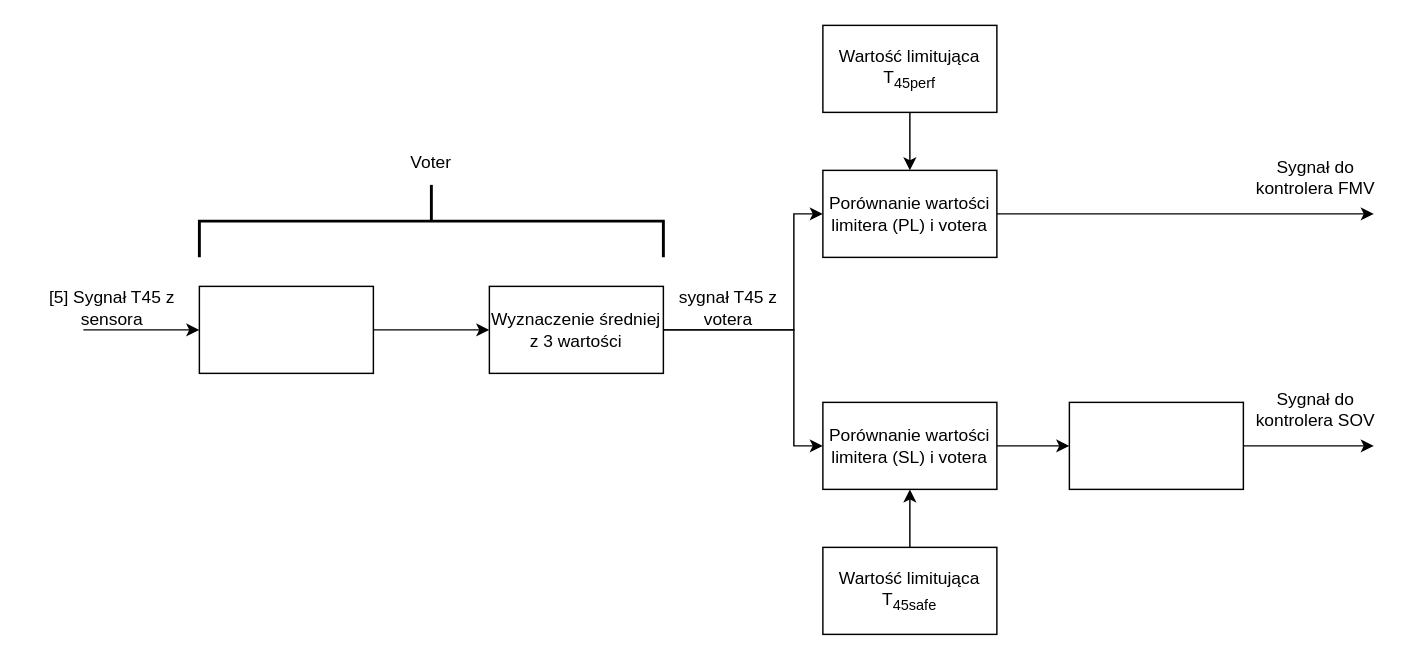
The diagram is 1412 pixels wide and 660 high, and some of its shapes have lost their labels. The centre of each missing label's shape, as x and y in pixels:
Jeżeli: sygnał został przekroczony 10 razy: the point at 1155,445
Usunięcie wartości maksymalnej i minimalnej: the point at 285,329
